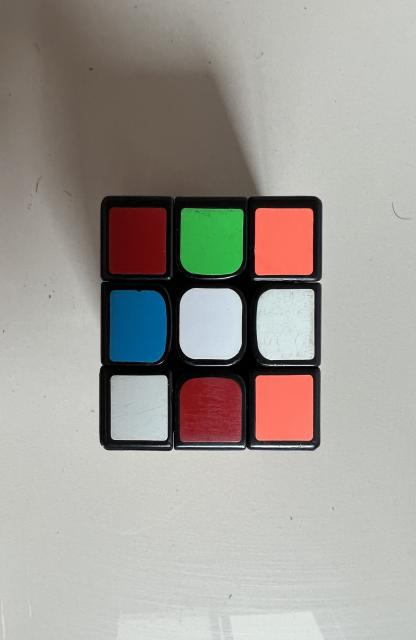Blue: (109, 290, 167, 362)
Green: (180, 208, 244, 275)
Orange: (255, 208, 313, 275), (256, 375, 313, 441)
Red: (180, 378, 242, 442), (108, 208, 167, 275)
White: (179, 288, 243, 360), (257, 289, 314, 360), (110, 375, 168, 441)
